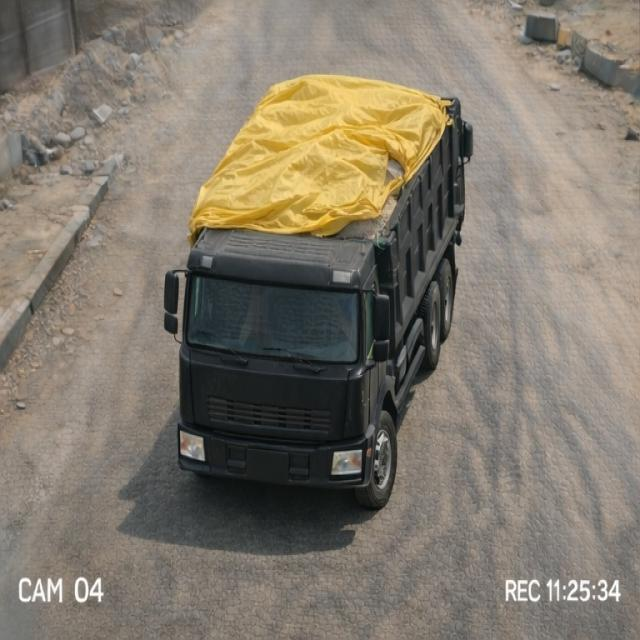trailer: (210, 69, 470, 226)
truck: (163, 58, 489, 503)
